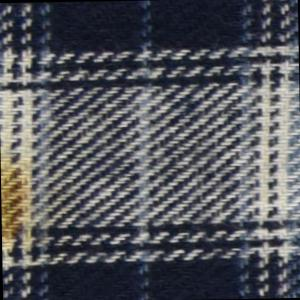Oil Stain: (1, 138, 62, 263)
